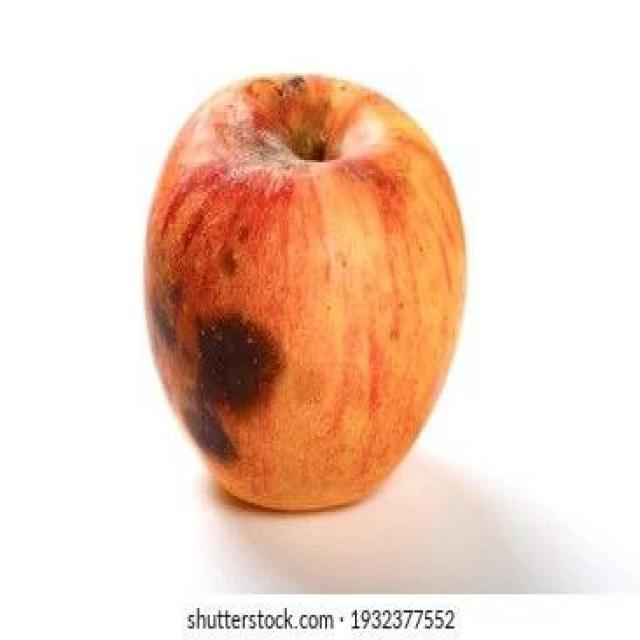Rotten: (167, 78, 445, 527)
